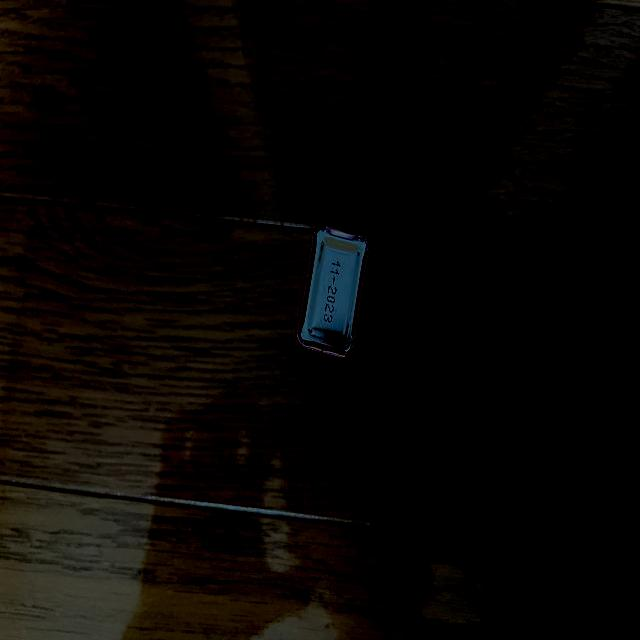9V: (297, 223, 372, 376)
